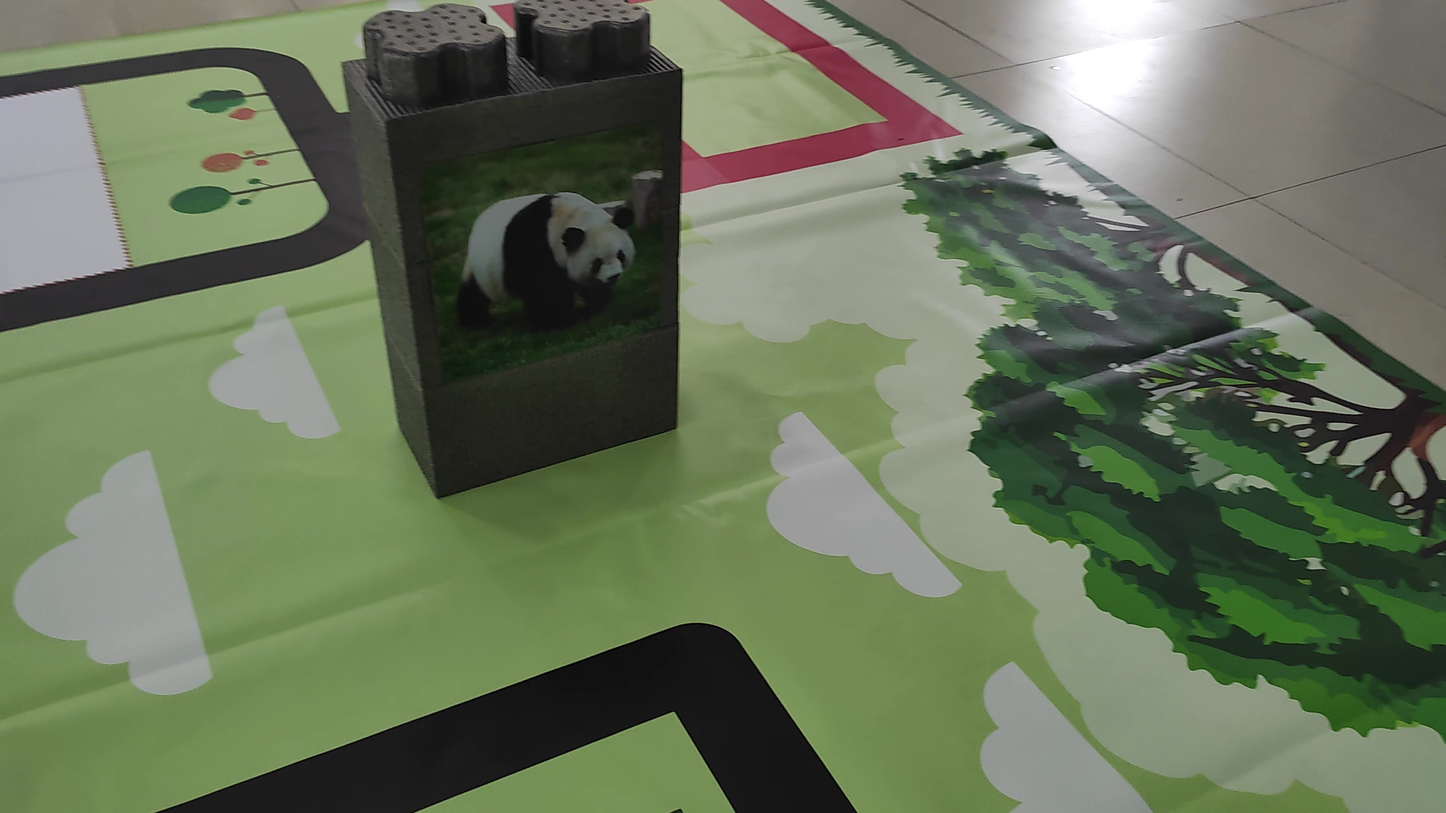panda: (438, 185, 665, 328)
